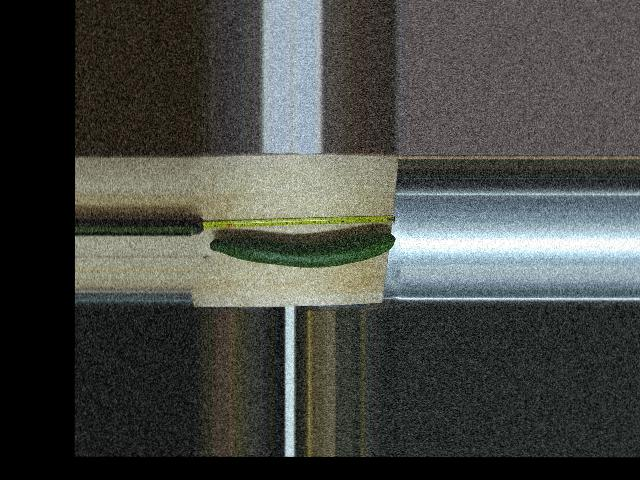cucumber: (209, 230, 395, 267)
